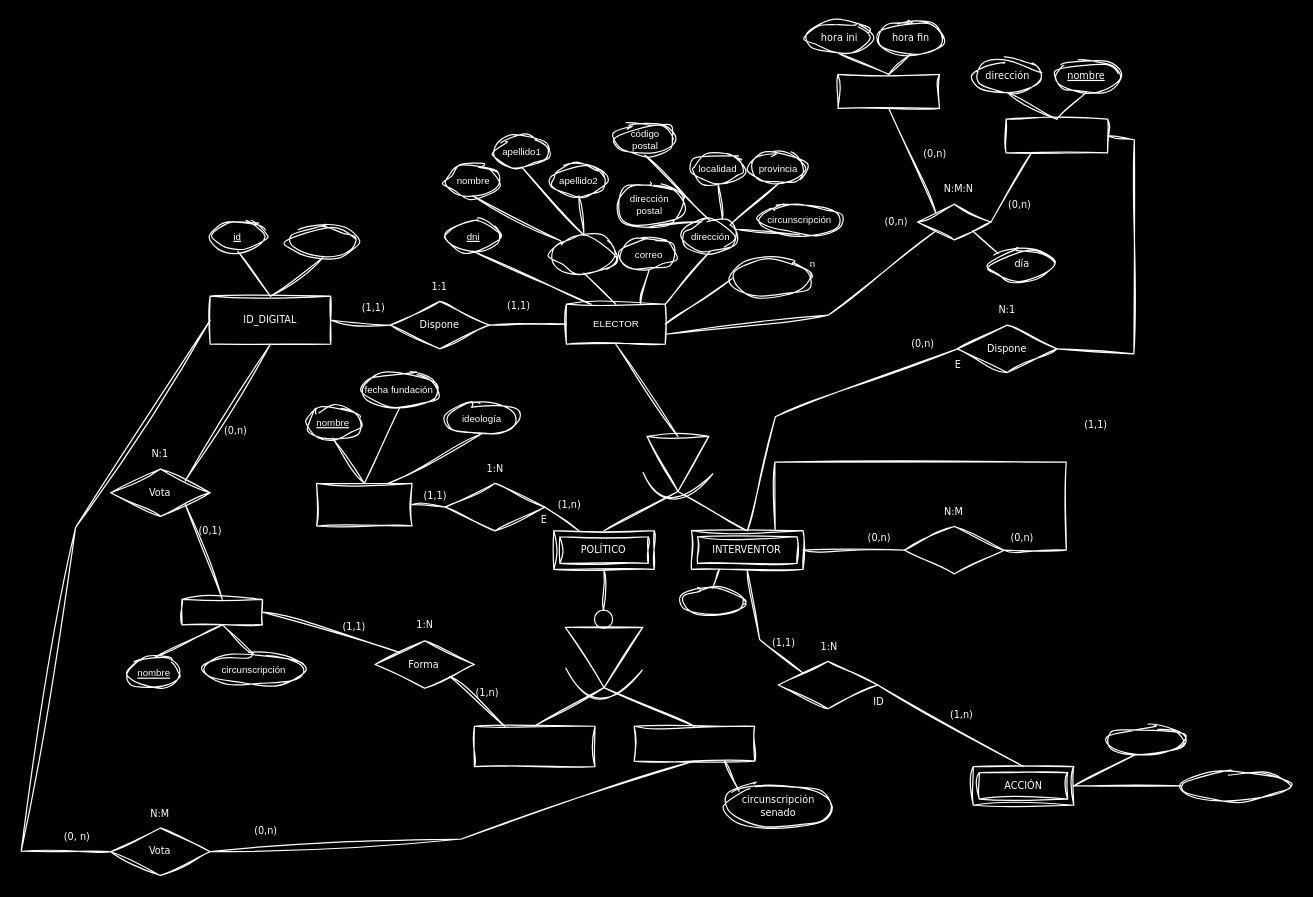
Some shapes in this 1313 by 897 pixel diagram are drawn without their labels. Here are the shapes that lost their labels. From the top down, the box of each, then its label:
(837, 73, 939, 108): HORARIO
(1005, 118, 1108, 153): CENTRO
(287, 225, 358, 257): contraseña
(916, 203, 991, 240): Cita
(550, 234, 616, 273): nombre completo
(731, 257, 810, 298): teléfono
(315, 482, 412, 526): PARTIDO POLÍTICO
(444, 482, 545, 531): Pertenece
(903, 525, 1004, 574): Supervisa
(181, 598, 262, 625): LISTA
(680, 587, 744, 616): sueldo
(777, 660, 878, 709): Registra
(473, 725, 595, 767): CONGRESO
(633, 725, 755, 761): SENADO
(1104, 725, 1187, 755): descripción
(1180, 770, 1292, 800): núm. registro
